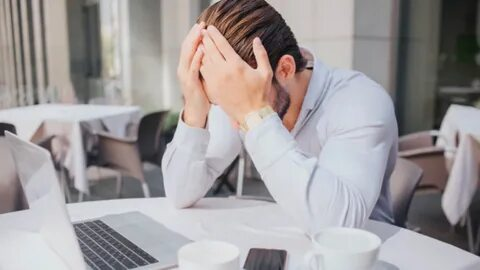sleep: (160, 1, 401, 235)
